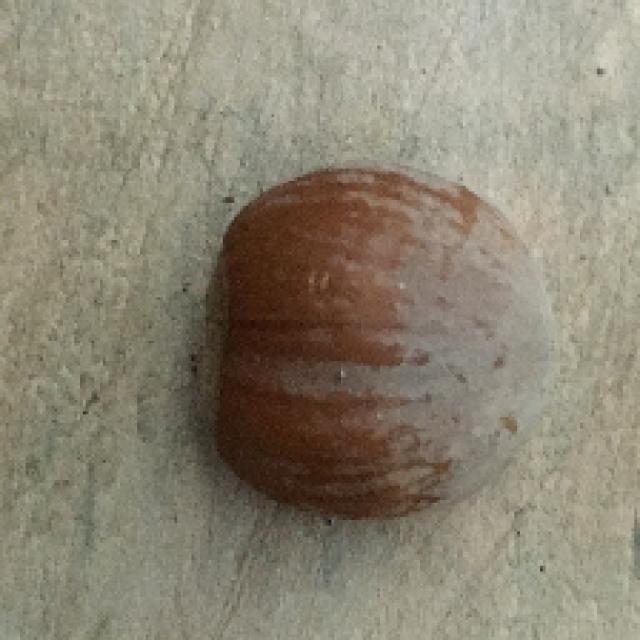qualityHazelnut: (200, 158, 568, 516)
